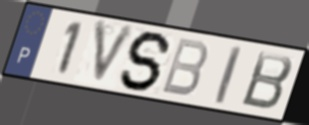1: (58, 21, 85, 77)
B: (238, 50, 296, 113), (159, 36, 211, 99)
I: (213, 43, 244, 107)
S: (118, 30, 174, 93)
V: (89, 19, 139, 89)
